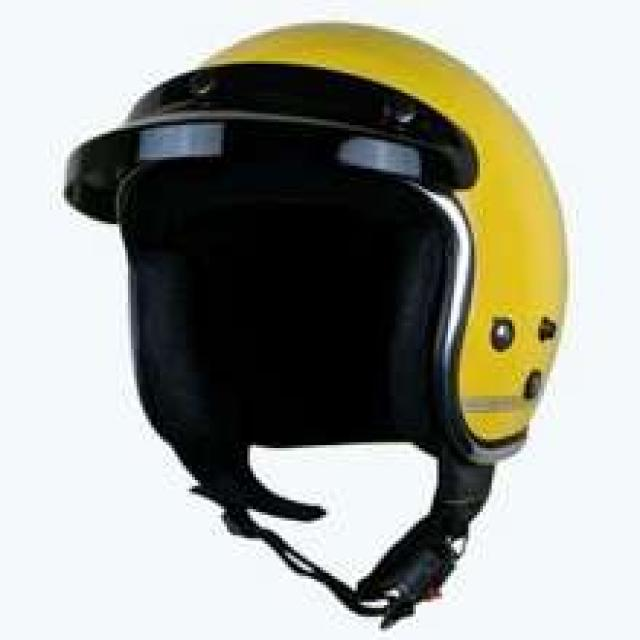Helm: (55, 13, 569, 630)
